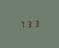seven: (18, 20, 24, 28)
three: (33, 19, 39, 27), (26, 20, 32, 27)
